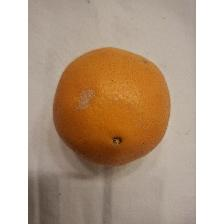Orange: (52, 46, 172, 168)
